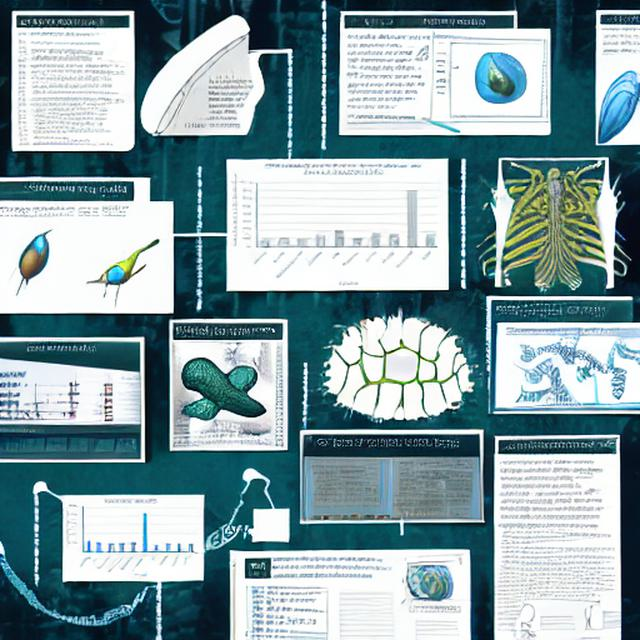Graph: (230, 160, 443, 288), (64, 498, 198, 578)
